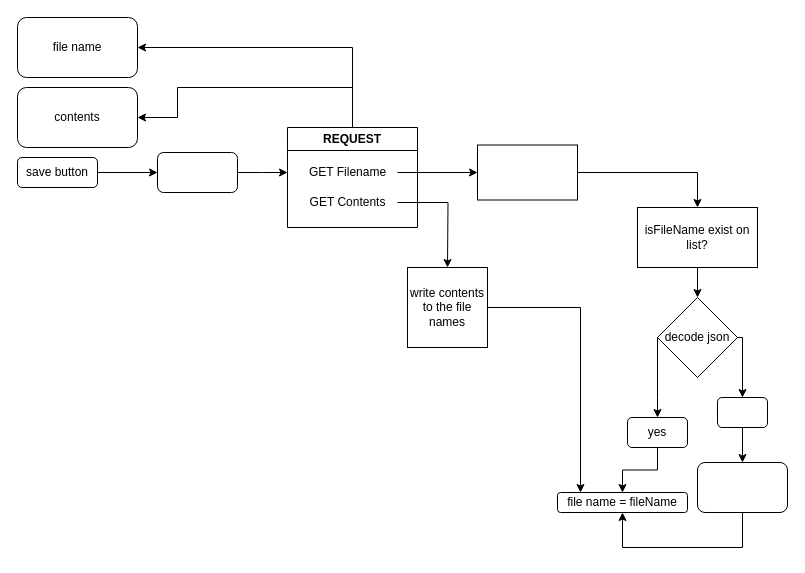
This 805x573 diagram has some shape labels left out. Each missing label, with the centre of its shape:
"append file name json" belongs at pixel 742 487.
"isSubmitted" belongs at pixel 197 172.
"no" belongs at pixel 742 412.
"sanitize and modify extension" belongs at pixel 527 172.
